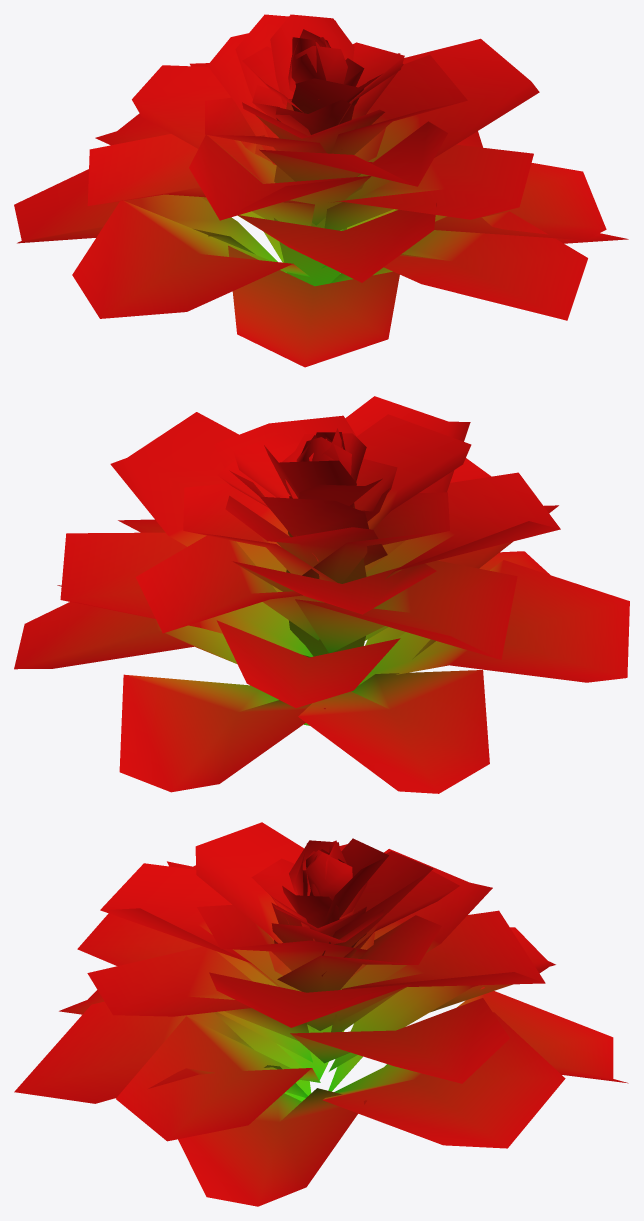
The model's file is Purple Ornamental Kale_LOD5_Var8_ugdieawja.fbx.
The picture shows the model from 3 angles, top to bottom: view 1: azimuth 30°, elevation 25°; view 2: azimuth 150°, elevation 25°; view 3: azimuth 270°, elevation 25°; orthographic projection. The views are drawn at different scales.
Visible parts, largest first — view 1: _4e39_Var8_LOD5; view 2: _4e39_Var8_LOD5; view 3: _4e39_Var8_LOD5.
Boxes of the visible parts, x1,y1,x2,y2 form: _4e39_Var8_LOD5: (14,14,628,367); _4e39_Var8_LOD5: (14,396,629,793); _4e39_Var8_LOD5: (14,822,628,1206).
Size of the model in its own units: 61 by 32.09 by 63.25.
